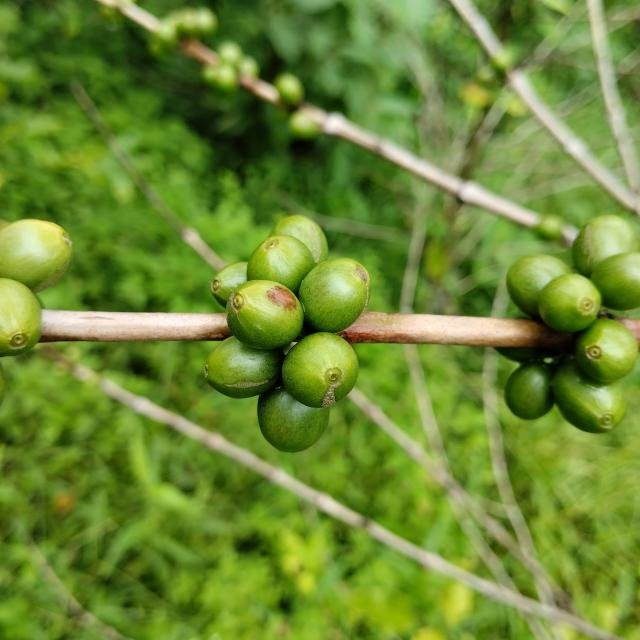green: (282, 332, 359, 408), (552, 361, 627, 434), (226, 280, 304, 350), (299, 258, 370, 333), (0, 219, 71, 293), (204, 336, 285, 399), (257, 386, 329, 453), (246, 235, 316, 295), (576, 318, 640, 383), (507, 254, 573, 317), (572, 215, 639, 276), (539, 274, 603, 333), (0, 278, 41, 356), (505, 361, 555, 420), (270, 215, 328, 264), (592, 252, 640, 310), (210, 262, 248, 307)
